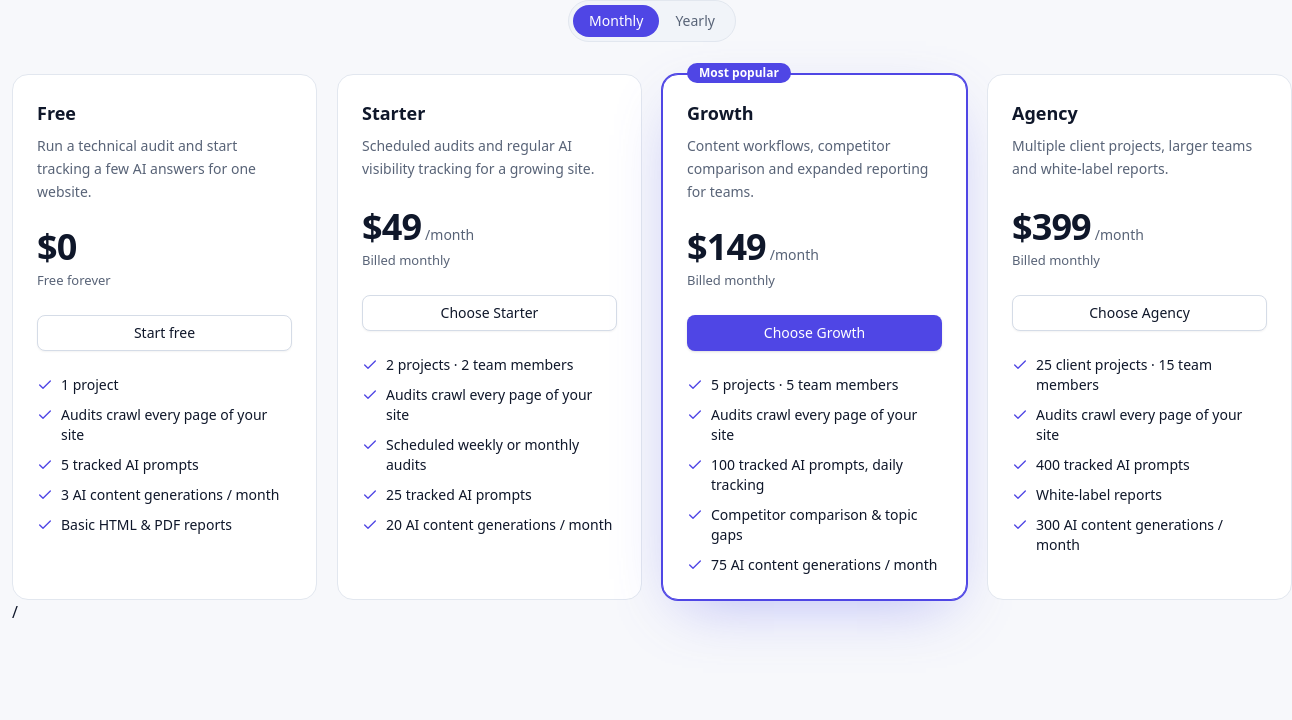
Test: PricingCards › shows configured plans and switches to yearly prices
Expected: the heading "Starter" is shown, [362, 101, 425, 125]
Expected: the text "Billed monthly" below "$49" is shown, [362, 251, 450, 269]
Click the radio button labelled "Yearly" at point(695, 21), box [659, 5, 731, 37]
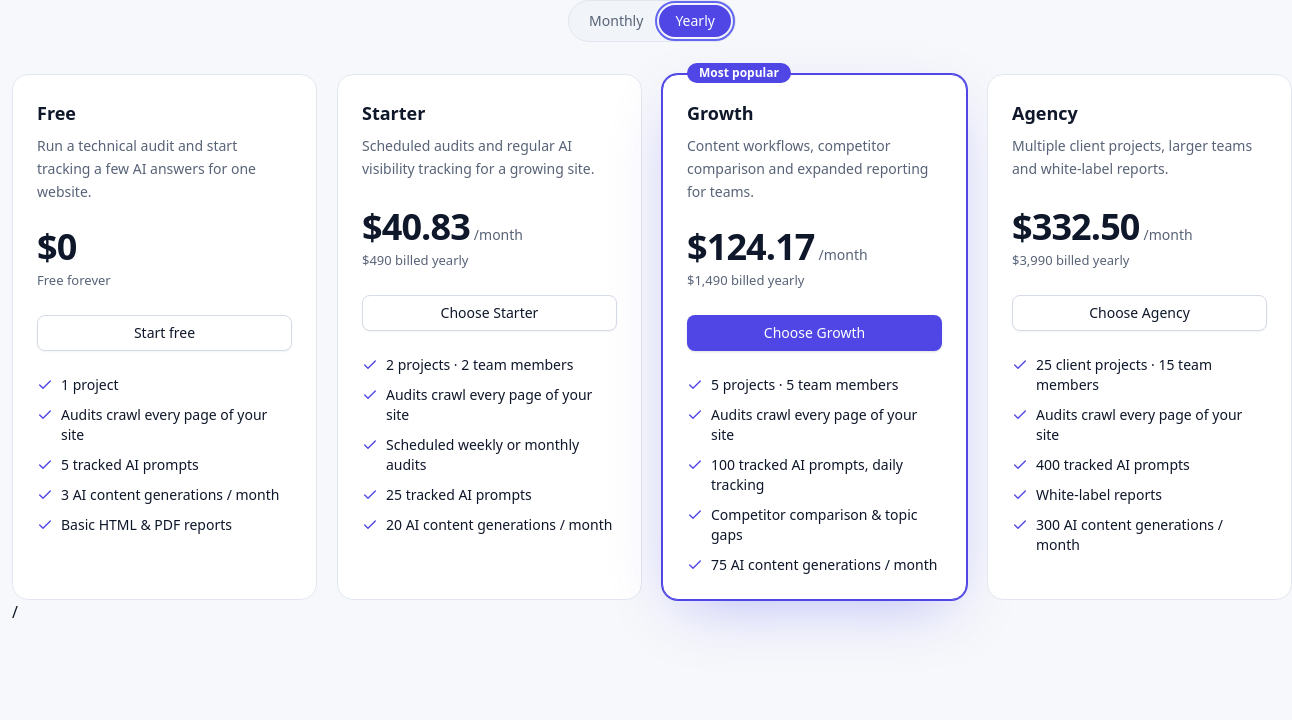
Expected: the text "$490 billed yearly" is shown, [362, 251, 468, 269]
